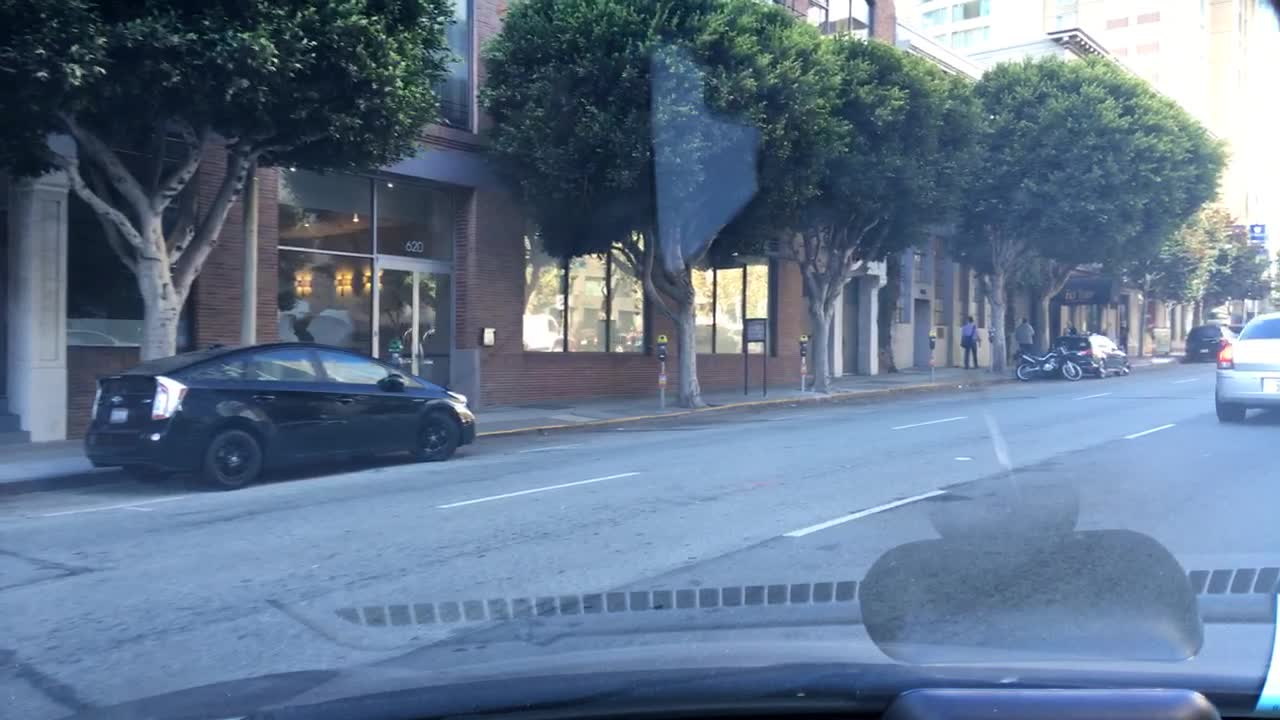car: (81, 337, 475, 486), (1215, 307, 1277, 426), (1050, 328, 1131, 376), (1181, 321, 1236, 361)
motor: (1015, 348, 1083, 384)
person: (956, 311, 979, 372), (1015, 315, 1035, 344)
traffic sign: (740, 319, 765, 343)
